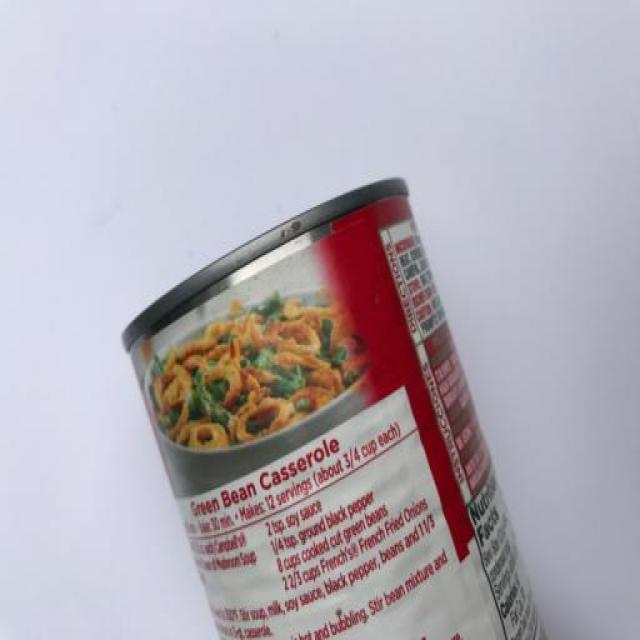metel: (83, 142, 586, 640)
